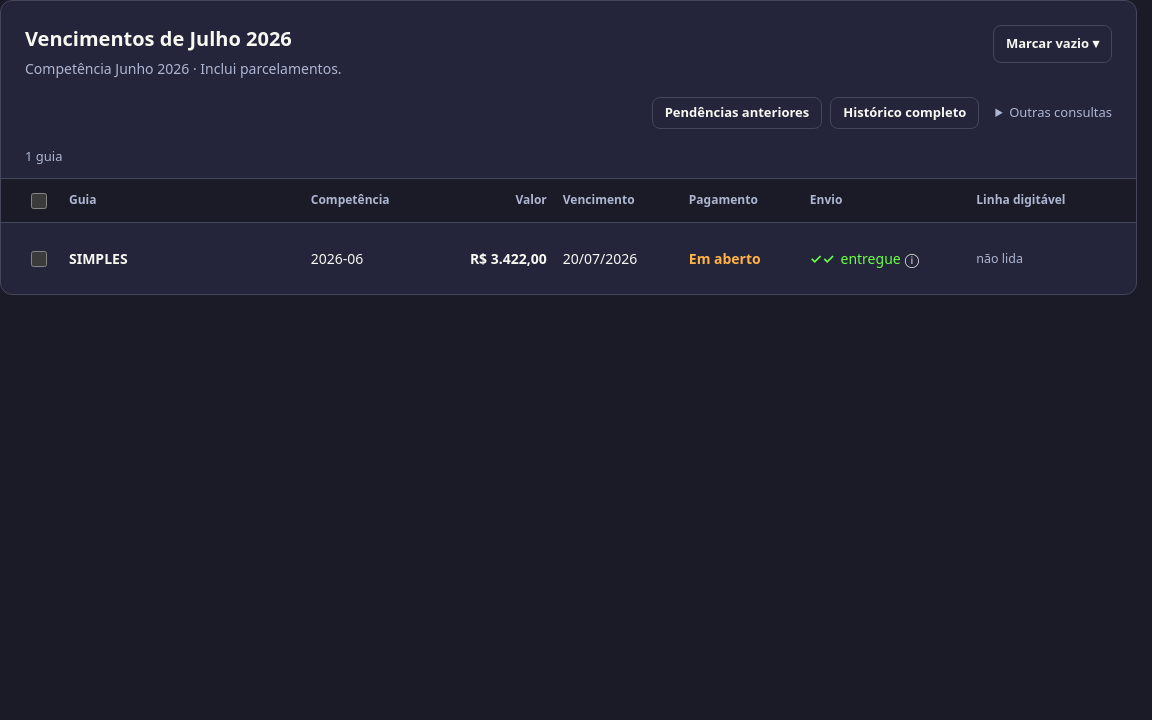
Test: ⚠⚠ o aviso de reenvio vale para QUALQUER canal › confirmar reenvio fecha o modal e mantém a tabela durante a requisição
Click the checkbox named "Selecionar guia" at {"x": 39, "y": 258}, box [31,250,47,266]
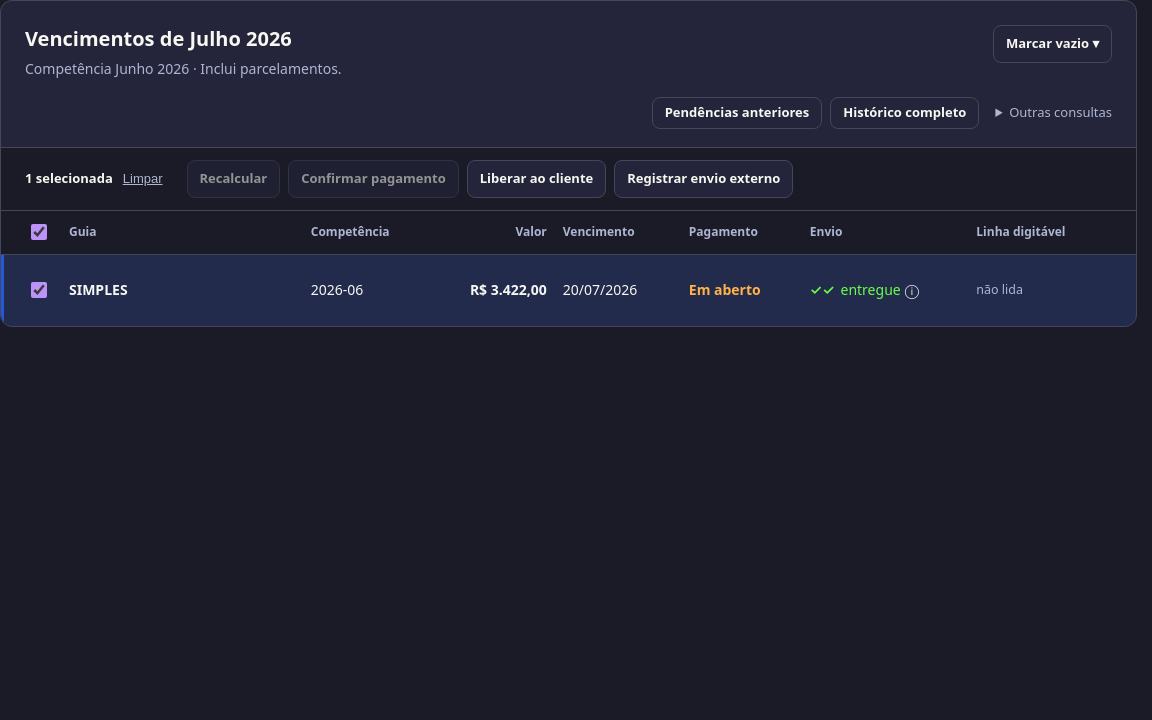
Click the button "Liberar ao cliente" at {"x": 537, "y": 178}, box [467,160,606,198]
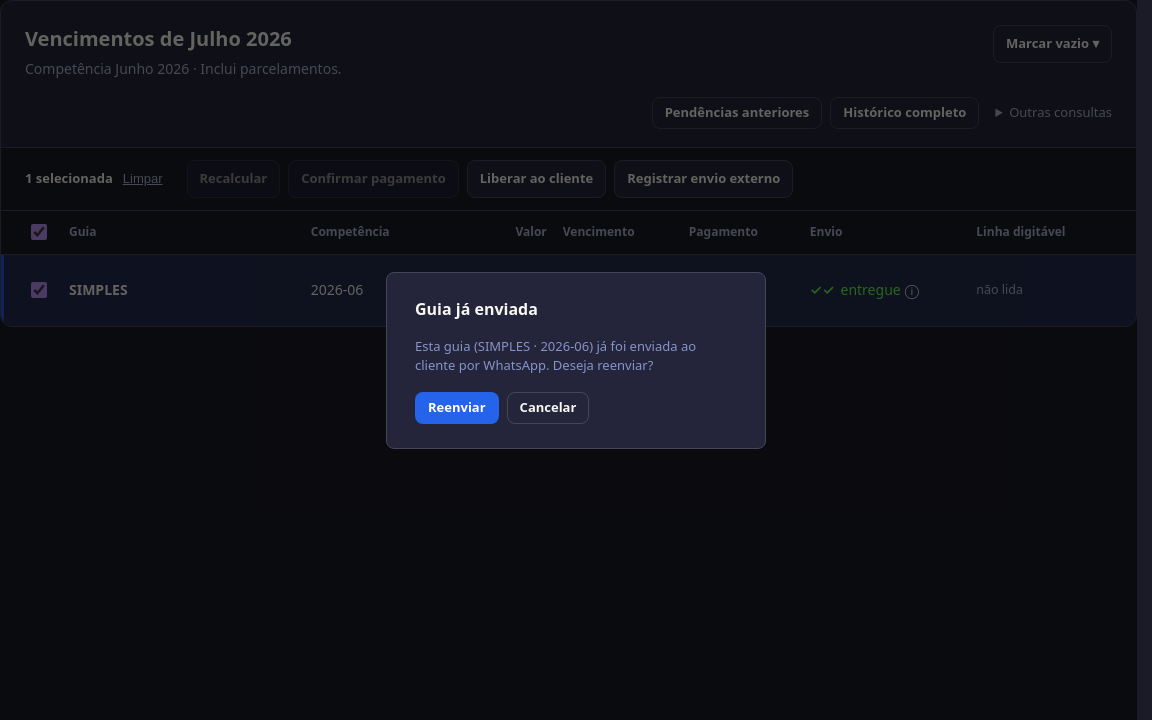
Click the button "Reenviar" at {"x": 457, "y": 408}, box [415,392,499,424]
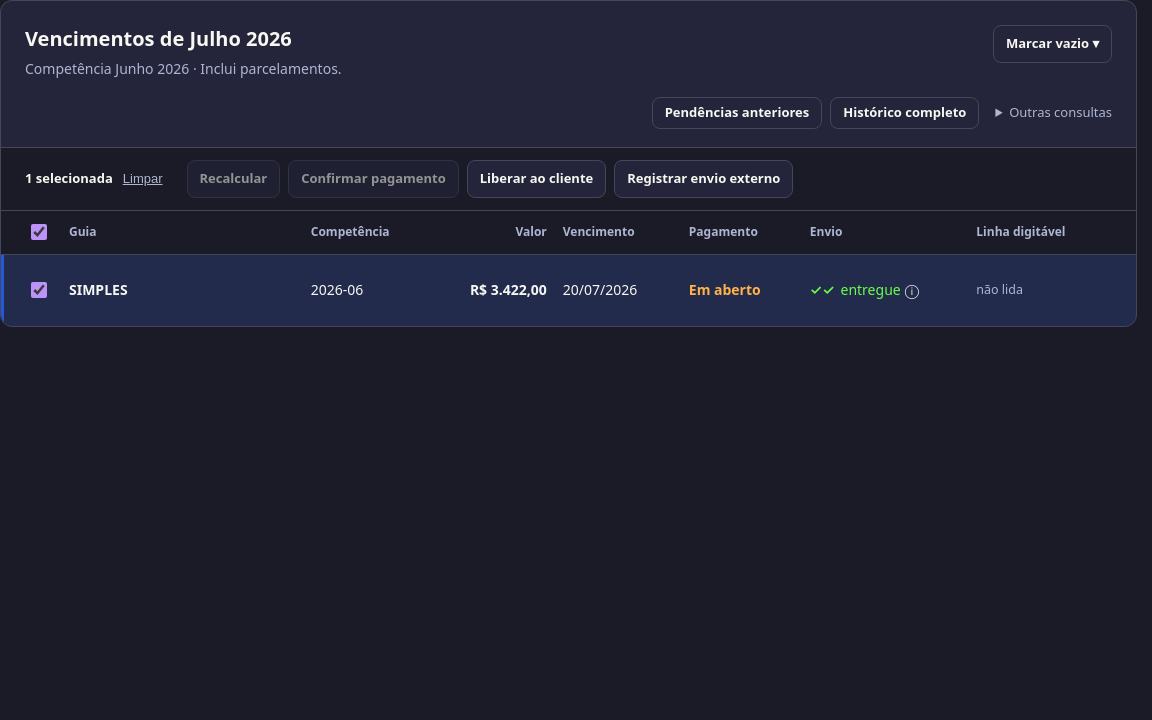
Expected: the table named "Lista de guias" is shown, [1,210,1136,326]
Expected: the heading "Guia já enviada" is gone
